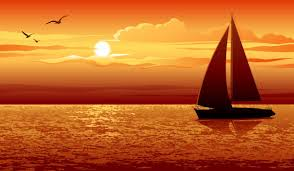boat: (194, 15, 275, 119)
